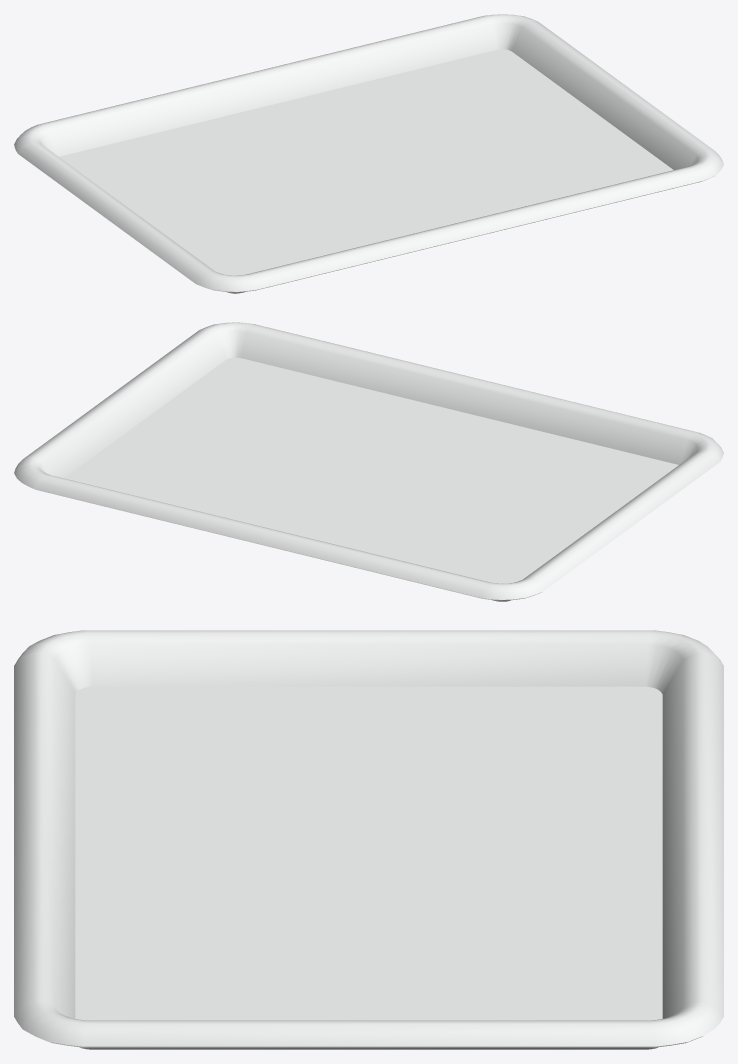
3 views of the same model, one above another, from view 1: azimuth 30°, elevation 25°; view 2: azimuth 150°, elevation 25°; view 3: azimuth 270°, elevation 25° (orthographic). The views are drawn at different scales.
Parts seen in each view (by area): view 1: Tray; view 2: Tray; view 3: Tray.
Boxes of the visible parts, box(x1,y1,x2,y2) form: Tray: box(14, 14, 723, 293); Tray: box(14, 322, 723, 601); Tray: box(14, 630, 723, 1049).
Size of the model in its own units: 0.4968 by 0.0236 by 0.3624.
Materials: 1 (1 with a texture image).
